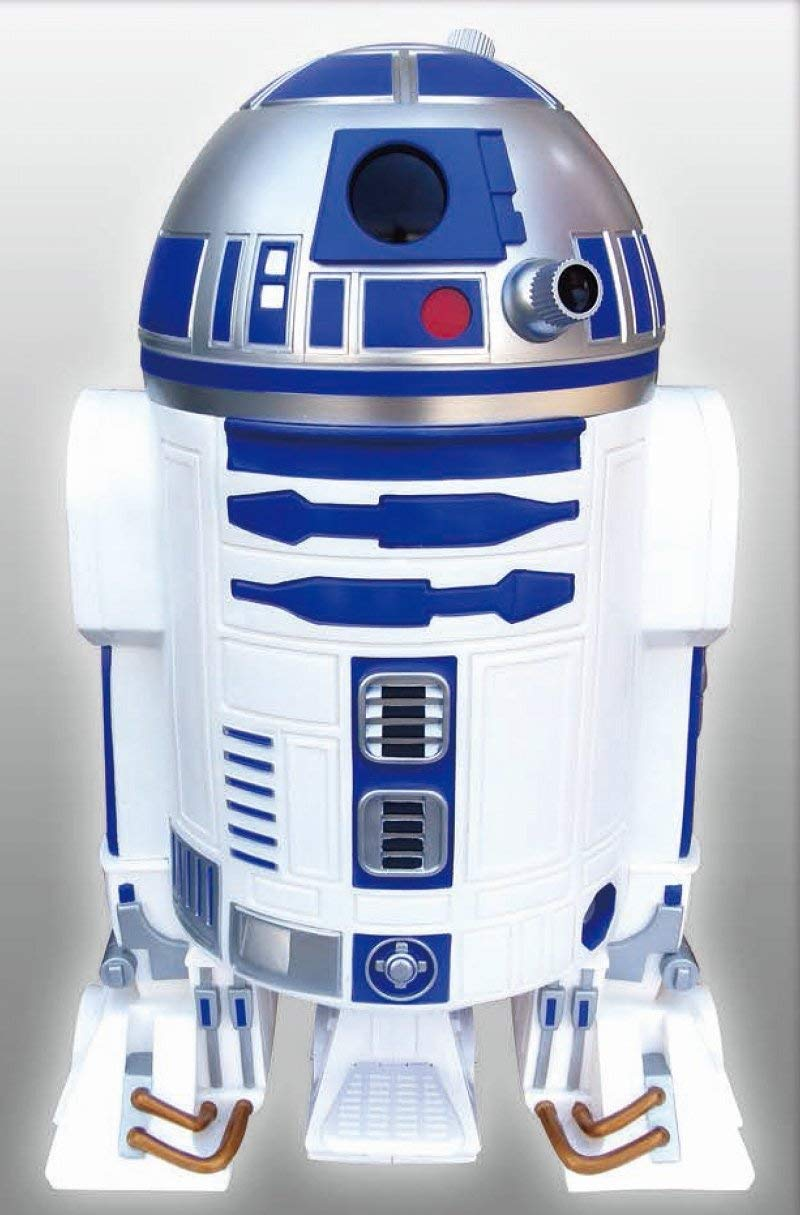r2d2: (53, 30, 757, 1193)
